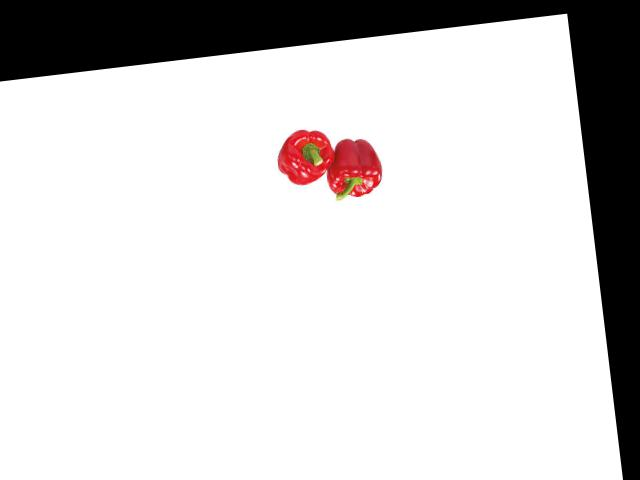bell_pepper: (320, 130, 386, 204)
